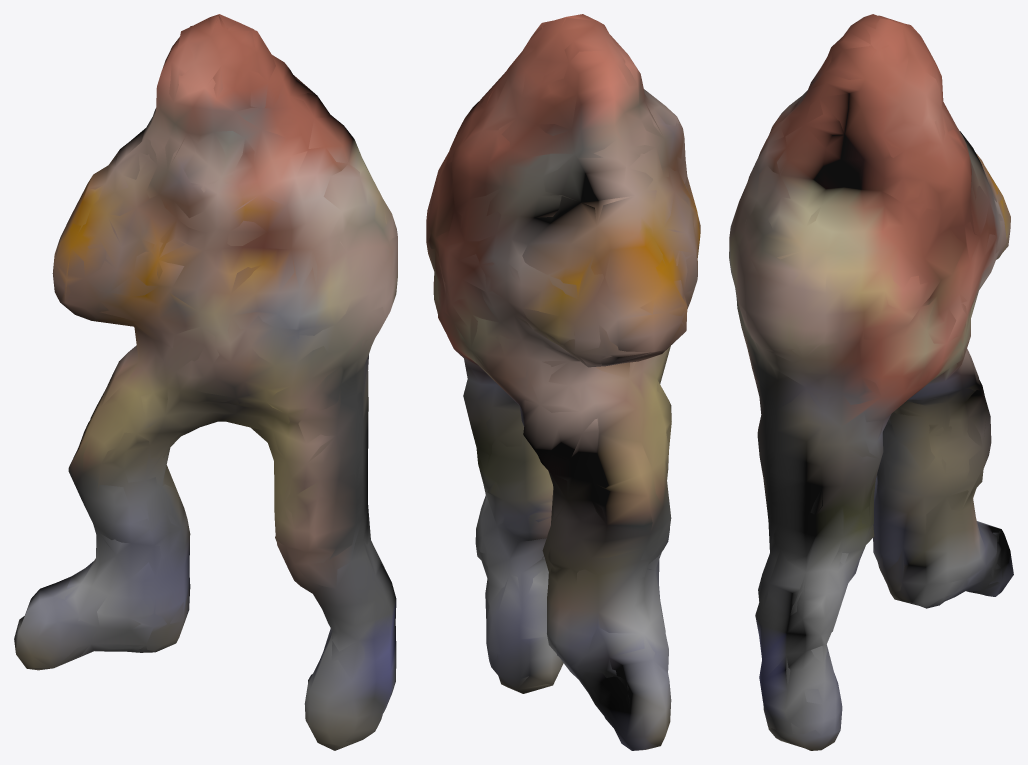
Rendered from chrono_ivan.glb.
The picture shows the model from 3 angles, left to right: view 1: azimuth 30°, elevation 25°; view 2: azimuth 150°, elevation 25°; view 3: azimuth 270°, elevation 25°; orthographic projection. The views are drawn at different scales.
Parts seen in each view (by area): view 1: chrono_ivan; view 2: chrono_ivan; view 3: chrono_ivan.
Part boxes in pixels (box(x1,y1,x2,y2)): chrono_ivan: box(14, 14, 397, 750); chrono_ivan: box(426, 14, 700, 750); chrono_ivan: box(729, 14, 1013, 750).
Size of the model in its own units: 0.9339 by 2.22 by 0.826.
